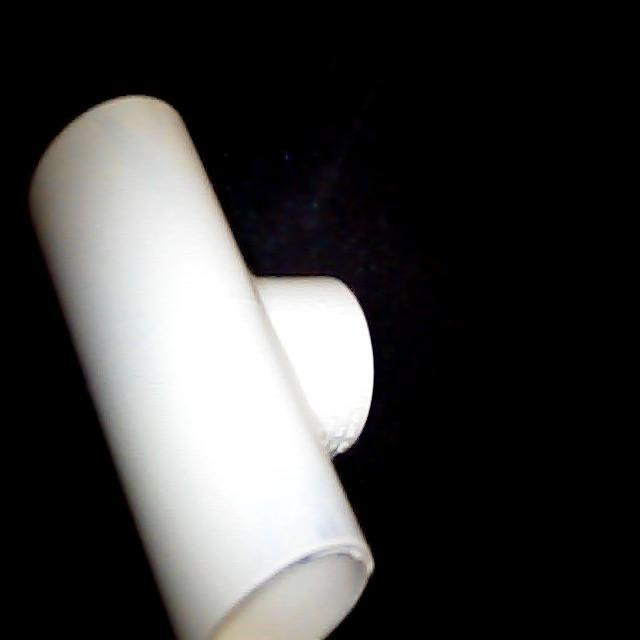T Joint: (27, 94, 375, 640)
